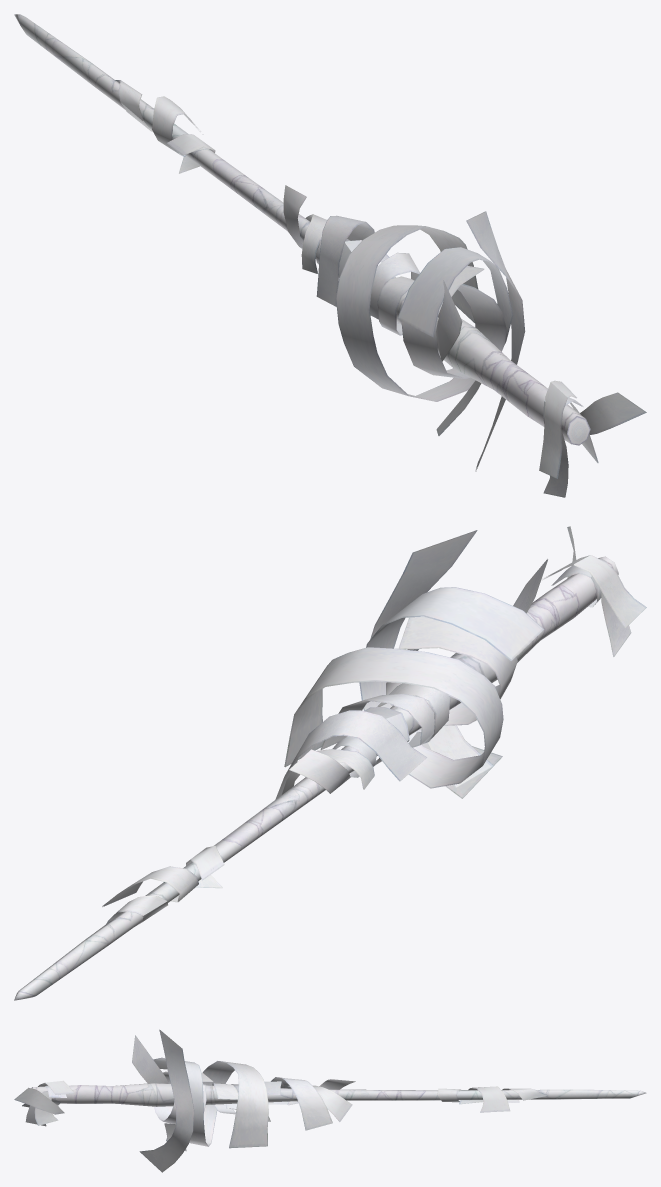
File: innominat_rapier.fbx
3 views of the same model, one above another, from view 1: azimuth 30°, elevation 25°; view 2: azimuth 150°, elevation 25°; view 3: azimuth 270°, elevation 25° (orthographic). The views are drawn at different scales.
Parts seen in each view (by area): view 1: PaperRapier; view 2: PaperRapier; view 3: PaperRapier.
Part boxes in pixels (left/top/right/bottom): PaperRapier: left=14, top=14, right=646, bottom=497; PaperRapier: left=14, top=526, right=646, bottom=1000; PaperRapier: left=14, top=1029, right=646, bottom=1172.
Bounding box in the file's own units: 11.6 × 18.8 × 76.9.
Materials: 1 (1 with a texture image).
